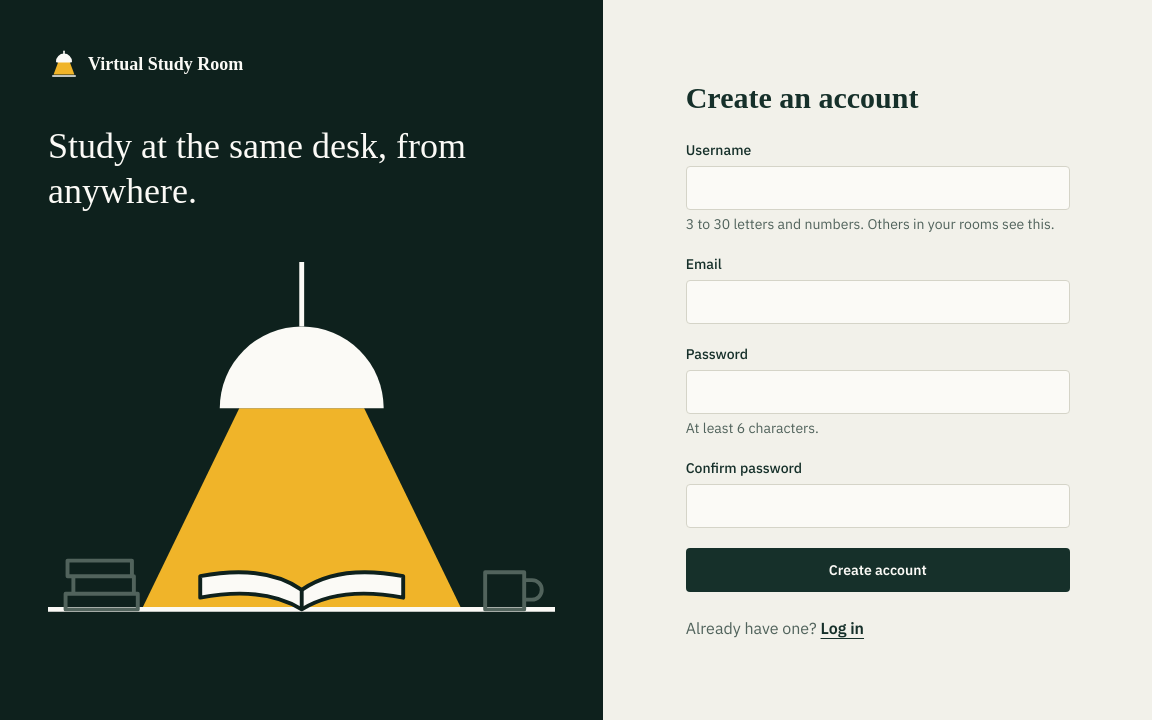
Test case: Signup › checks the password before asking the server
Type "meera" into the field labelled "Username" at (878, 188), box [686,166,1070,210]
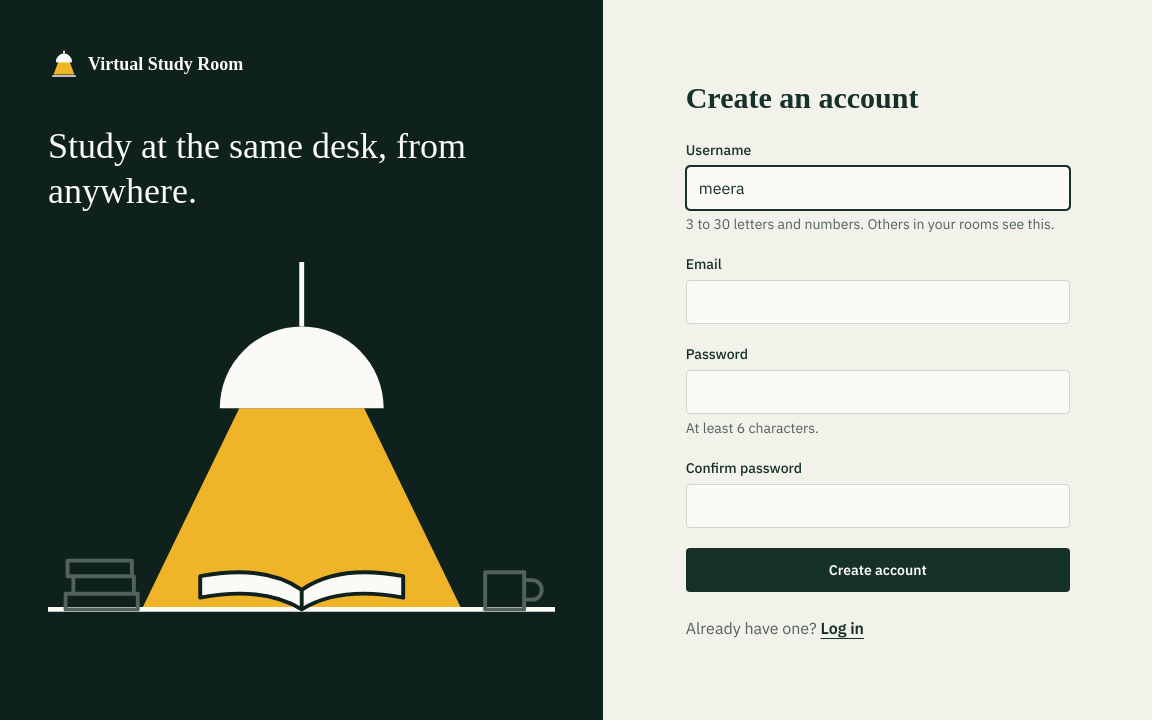
Type "m@example.com" into the field labelled "Email" at (878, 302), box [686,280,1070,324]
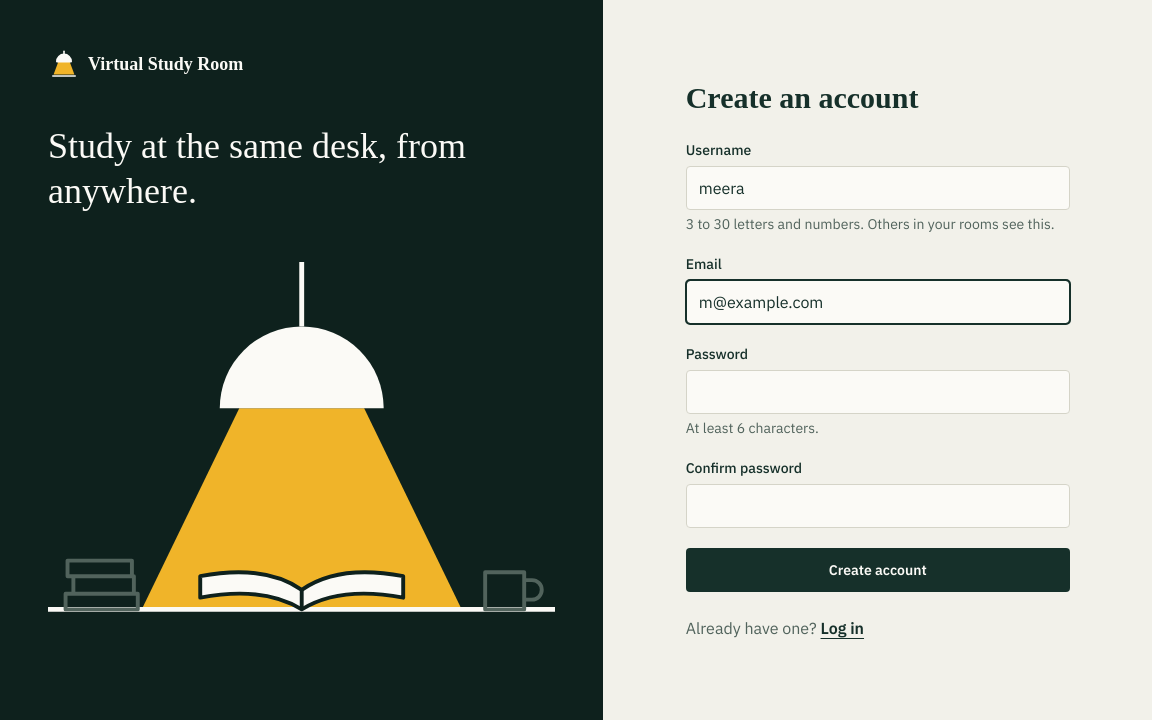
Type "secret12" into the password field labelled "Password" at (878, 392), box [686,370,1070,414]
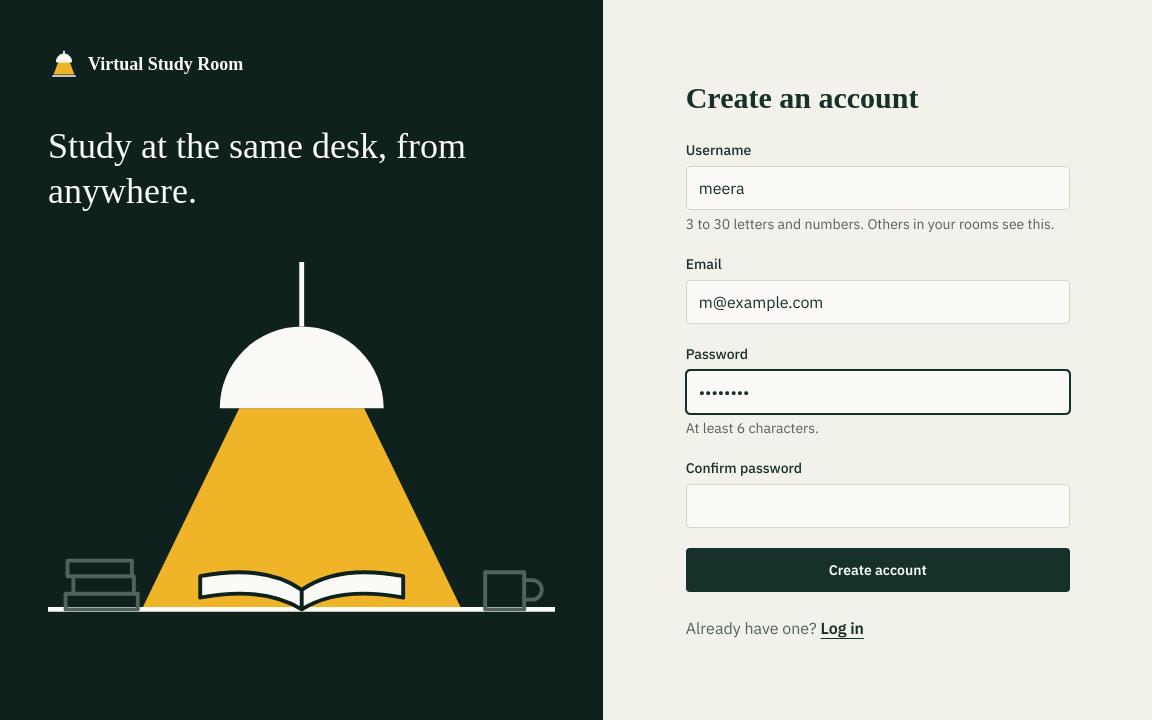
Type "different" into the password field labelled "Confirm password" at (878, 506), box [686,484,1070,528]
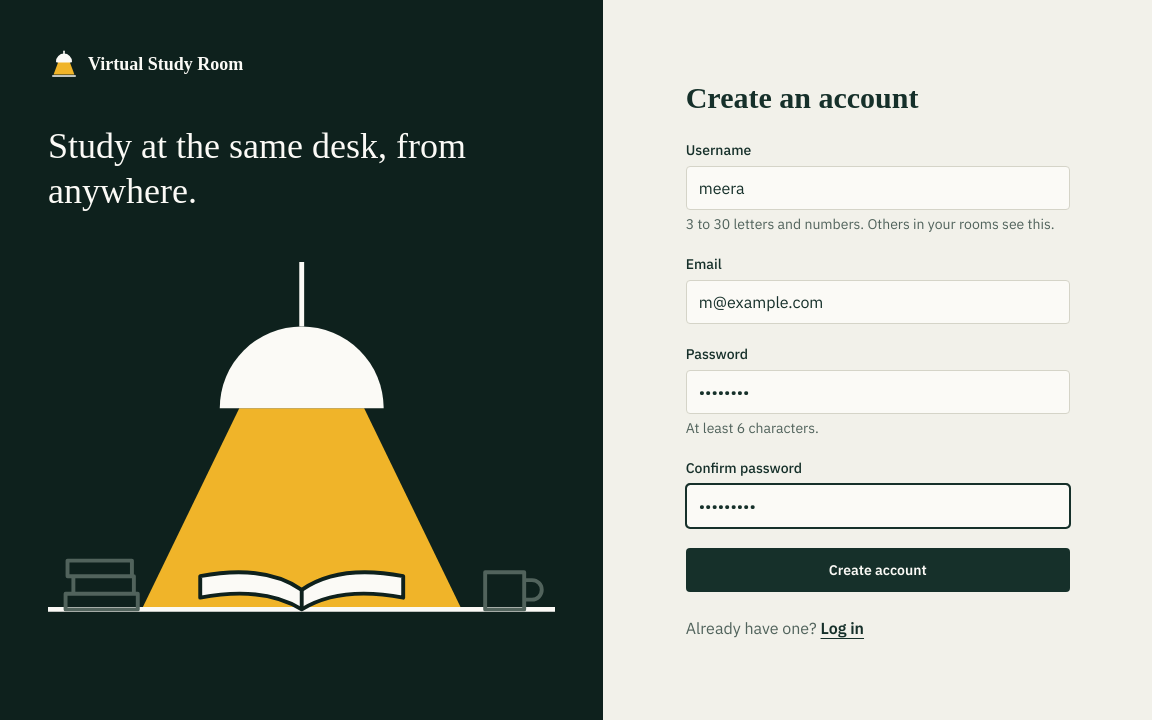
Click the button "Create account" at (878, 570), box [686,548,1070,592]
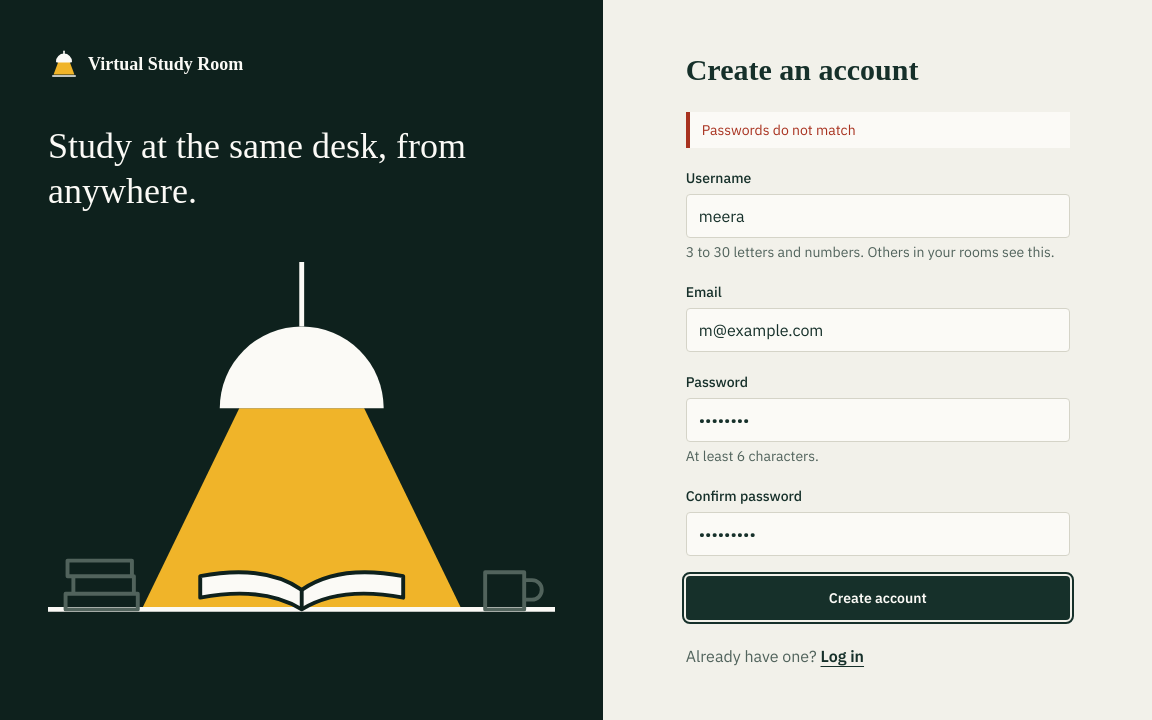
Expected: the message reads "Passwords do not match", [702,121,856,139]
